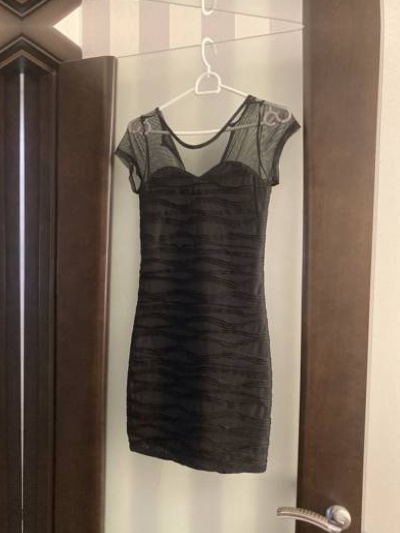Dress: (86, 93, 305, 488)
